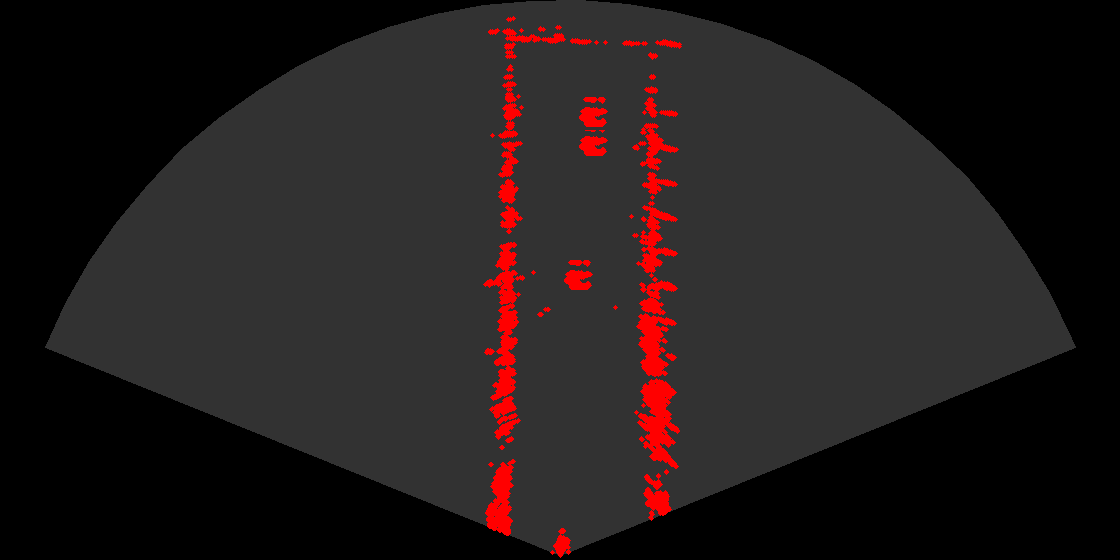ball: (544, 252, 604, 293), (559, 118, 619, 159), (559, 89, 619, 130)
